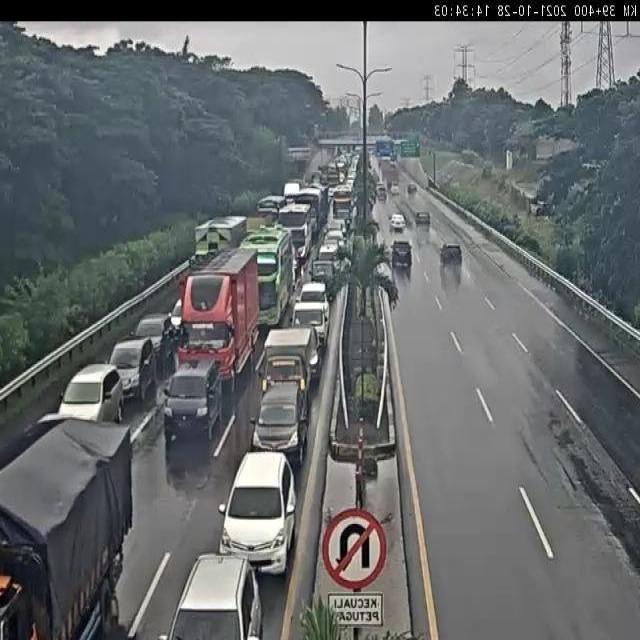Car: (218, 448, 299, 575), (158, 551, 263, 639), (162, 355, 223, 446), (250, 380, 309, 467), (59, 362, 125, 424), (134, 313, 176, 378), (290, 299, 330, 364), (316, 242, 345, 281), (438, 230, 464, 271), (298, 280, 328, 311), (392, 240, 412, 268), (327, 218, 347, 241), (317, 164, 331, 185), (390, 213, 405, 232), (335, 158, 347, 178), (326, 187, 336, 211), (382, 243, 394, 262), (377, 183, 387, 200), (368, 162, 376, 183), (390, 183, 400, 196), (366, 152, 373, 168), (388, 180, 393, 190)
Truck: (0, 409, 132, 635), (176, 252, 255, 368), (238, 224, 294, 316), (268, 195, 316, 258)
